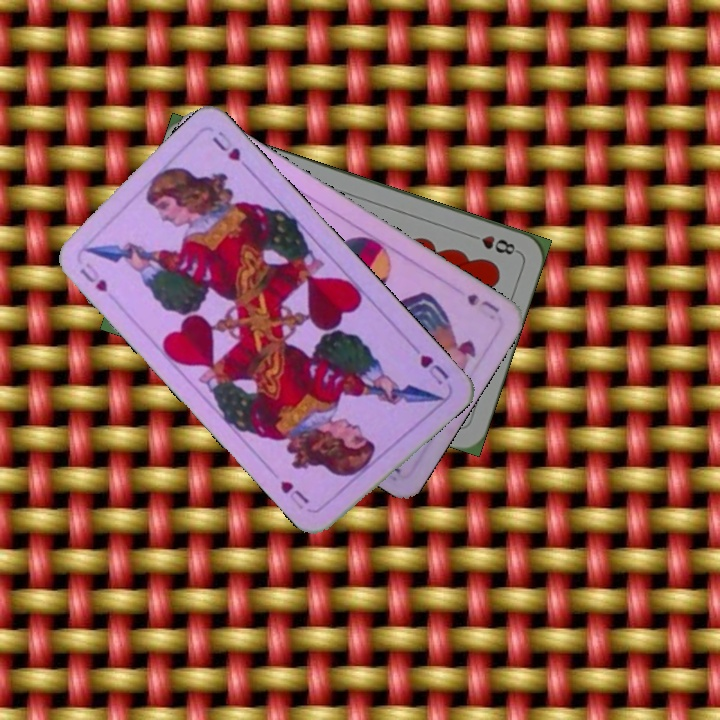H8: (463, 229, 521, 258)
HU: (407, 340, 452, 388), (75, 264, 112, 295)
SU: (462, 289, 502, 315)
